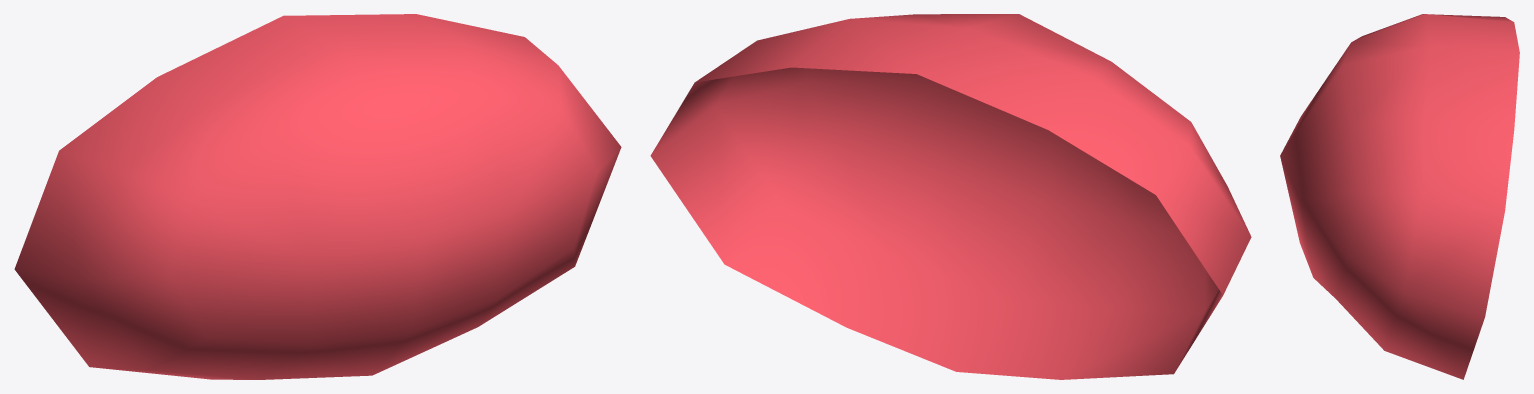
Rendered from Nose_Bear.glb.
The picture shows the model from 3 angles, left to right: view 1: azimuth 30°, elevation 25°; view 2: azimuth 150°, elevation 25°; view 3: azimuth 270°, elevation 25°; orthographic projection. The views are drawn at different scales.
Parts seen in each view (by area): view 1: Nose_Bear; view 2: Nose_Bear; view 3: Nose_Bear.
Part boxes in pixels (<box>): Nose_Bear: <box>14,14,621,379</box>; Nose_Bear: <box>650,14,1251,379</box>; Nose_Bear: <box>1280,14,1519,379</box>.
Bounding box in the file's own units: 0.1876 × 0.1047 × 0.0788.
1 material, 1 textured.
